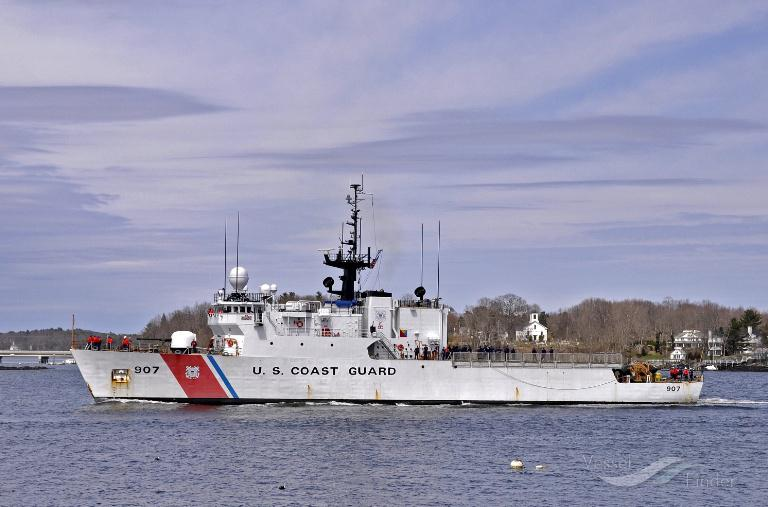OCR: (248, 357, 404, 384), (130, 363, 160, 378), (664, 381, 683, 395)
